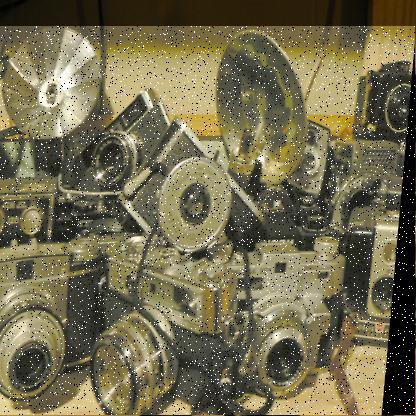Camera: (1, 27, 416, 416), (249, 223, 379, 402)
